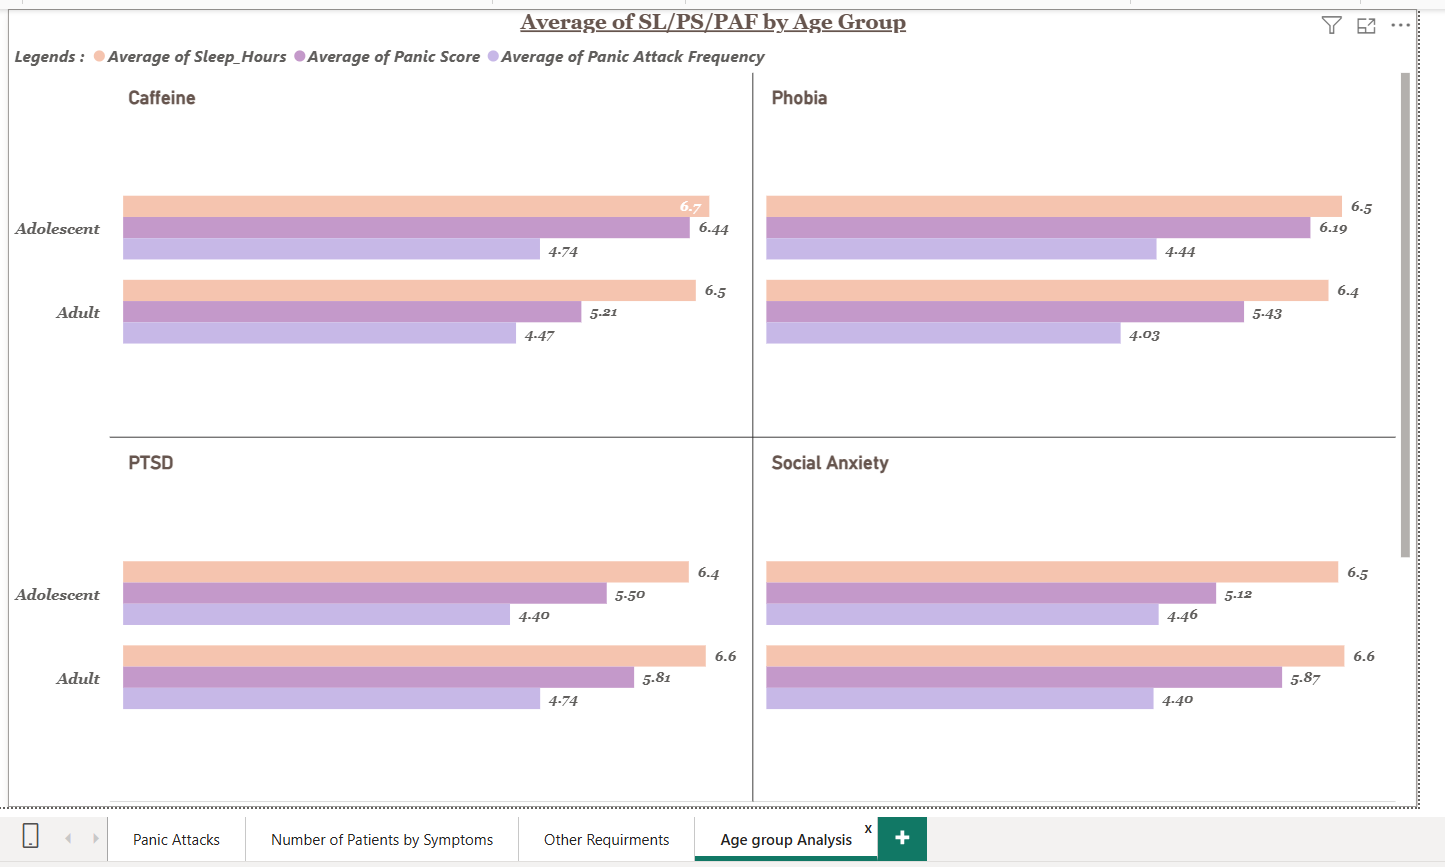

Layout of this report page (visuals, bound fields, positions):
{"tool":"powerbi","page":{"name":"Age group Analysis","canvas":[1280,720],"ordinal":3},"visuals":[{"type":"clusteredBarChart","title":"Average of SL/PS/PAF by Age Group","fields":{"Category":["panic_attack_dataset.Age group Switch"],"Rows":["panic_attack_dataset.Trigger"],"Y":["Avg(panic_attack_dataset.Sleep_Hours)","Avg(panic_attack_dataset.Panic_Score)","Avg(panic_attack_dataset.Panic_Attack_Frequency)"]},"box":[9.4,0,1270.3,720.7],"z":0}]}

Visuals, with their boxes on the page's 1280x720 design canvas (x1, y1, x2, y2). These are canvas units, not pixel positions in the 1445x867 screenshot, which may show the page scaled, cropped or inside an application window:
"Average of SL/PS/PAF by Age Group" clusteredBarChart: [left=9, top=0, right=1280, bottom=721]
